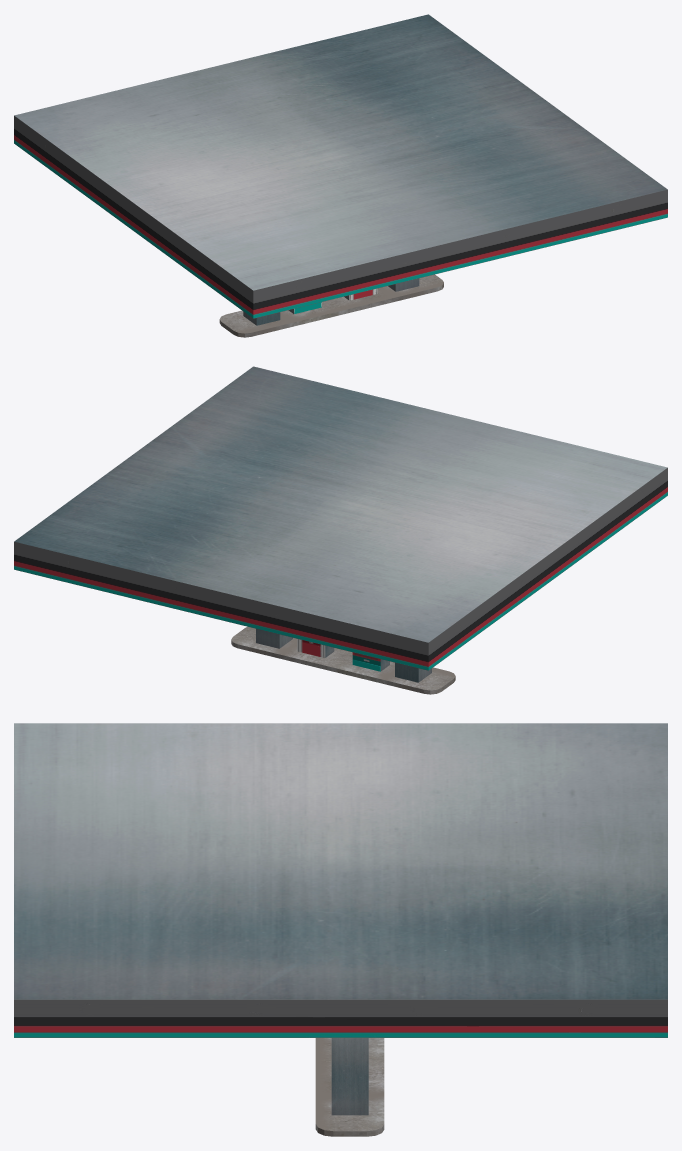
The model's file is GAS_STATION.fbx.
The picture shows the model from 3 angles, top to bottom: view 1: azimuth 30°, elevation 25°; view 2: azimuth 150°, elevation 25°; view 3: azimuth 270°, elevation 25°; orthographic projection. The views are drawn at different scales.
Parts seen in each view (by area): view 1: GAS_STATION; view 2: GAS_STATION; view 3: GAS_STATION.
Part boxes in pixels (x1,y1,x2,y2): GAS_STATION: [14, 14, 667, 337]; GAS_STATION: [14, 366, 667, 694]; GAS_STATION: [14, 723, 667, 1136].
Size of the model in its own units: 1677 by 593 by 1677.
Materials: 4 (4 with a texture image).
